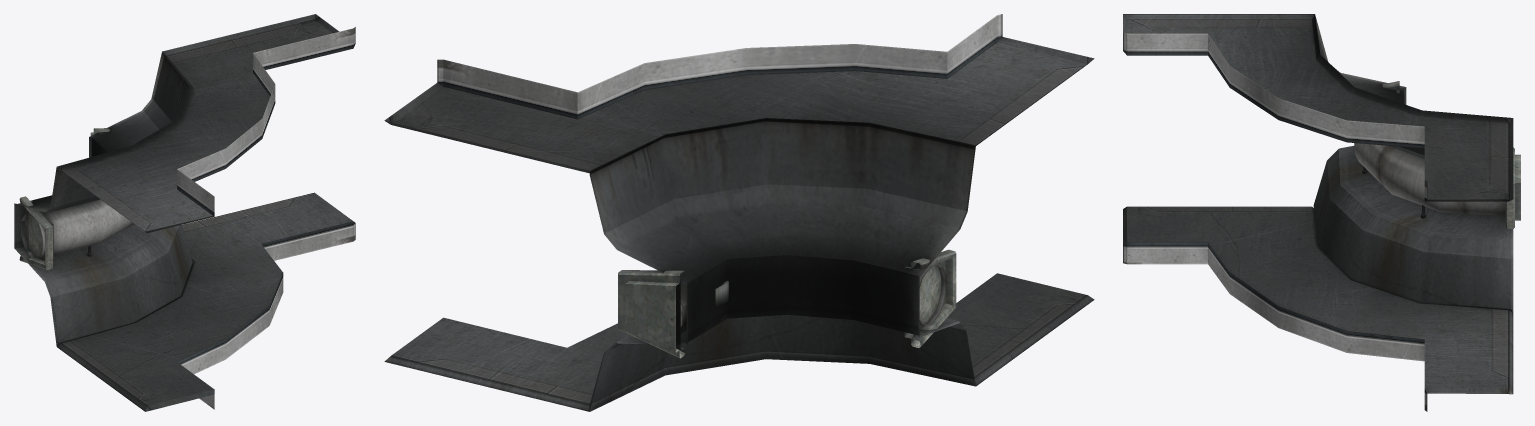
The model's file is Shaft_Corner.fbx.
3 views of the same model, side by side, from view 1: azimuth 30°, elevation 25°; view 2: azimuth 150°, elevation 25°; view 3: azimuth 270°, elevation 25° (orthographic). The views are drawn at different scales.
Visible parts, largest first — view 1: Shaft_Corner; view 2: Shaft_Corner; view 3: Shaft_Corner.
Part boxes in pixels (x1,y1,x2,y2): Shaft_Corner: (14, 14, 355, 411); Shaft_Corner: (384, 14, 1094, 411); Shaft_Corner: (1123, 14, 1520, 411).
Bounding box in the file's own units: 100 × 58.22 × 91.03.
